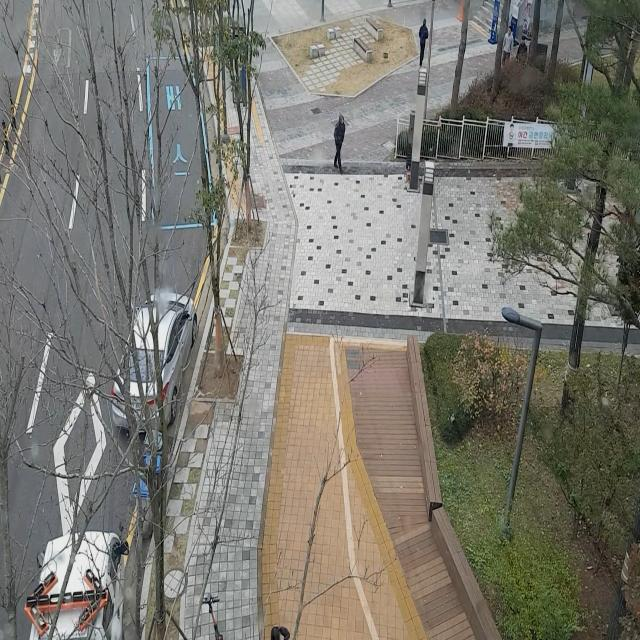Car: (100, 278, 206, 452)
Truck: (10, 498, 146, 640)
